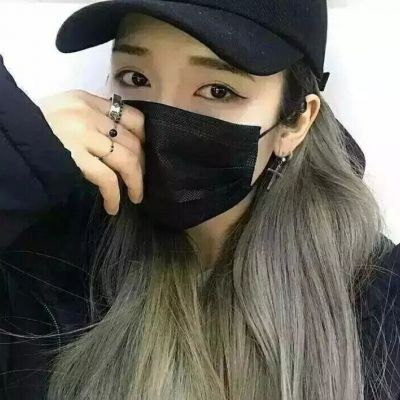mask: (106, 35, 260, 224)
